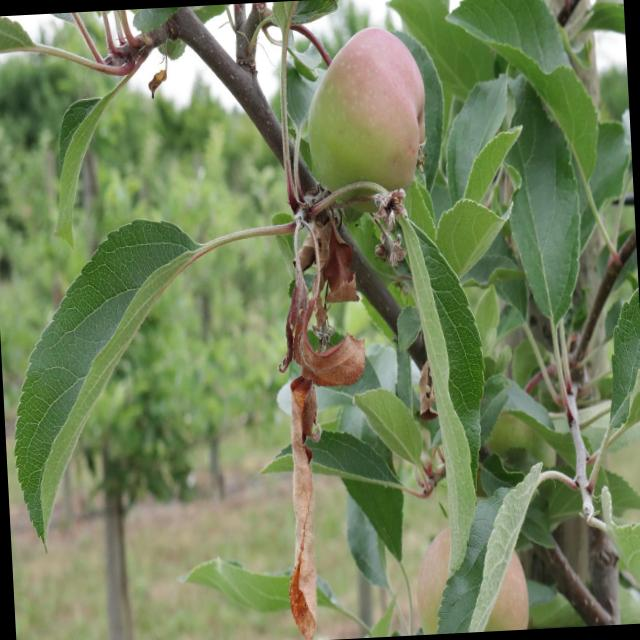-FireBlight-: (264, 183, 372, 389), (276, 380, 334, 630), (410, 356, 428, 420)
